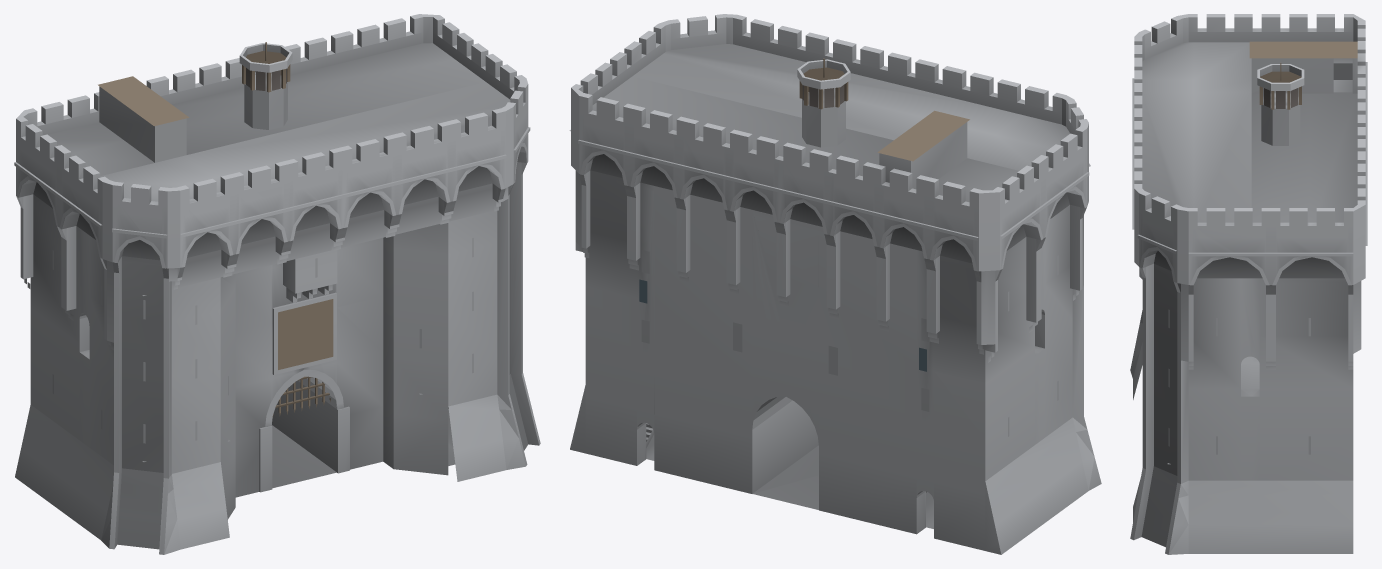
Rendered from sg_crown_gate.glb.
3 renders of one model, left to right at view 1: azimuth 30°, elevation 25°; view 2: azimuth 150°, elevation 25°; view 3: azimuth 270°, elevation 25°, orthographic. The views are drawn at different scales.
Parts seen in each view (by area): view 1: sg_crown_gate_SG_Stone, sg_crown_gate_SG_Joinery; view 2: sg_crown_gate_SG_Stone, sg_crown_gate_SG_Joinery; view 3: sg_crown_gate_SG_Stone, sg_crown_gate_SG_Joinery, sg_crown_gate_SG_Glow.
Boxes of the visible parts, x1,y1,x2,y2 form: sg_crown_gate_SG_Stone: (14, 14, 540, 554); sg_crown_gate_SG_Joinery: (98, 42, 333, 417); sg_crown_gate_SG_Stone: (569, 14, 1101, 554); sg_crown_gate_SG_Joinery: (799, 58, 969, 161); sg_crown_gate_SG_Stone: (1130, 14, 1367, 554); sg_crown_gate_SG_Joinery: (1249, 41, 1357, 109); sg_crown_gate_SG_Glow: (1263, 88, 1297, 108).
Bounding box in the file's own units: 32.76 × 29.8 × 16.37.
